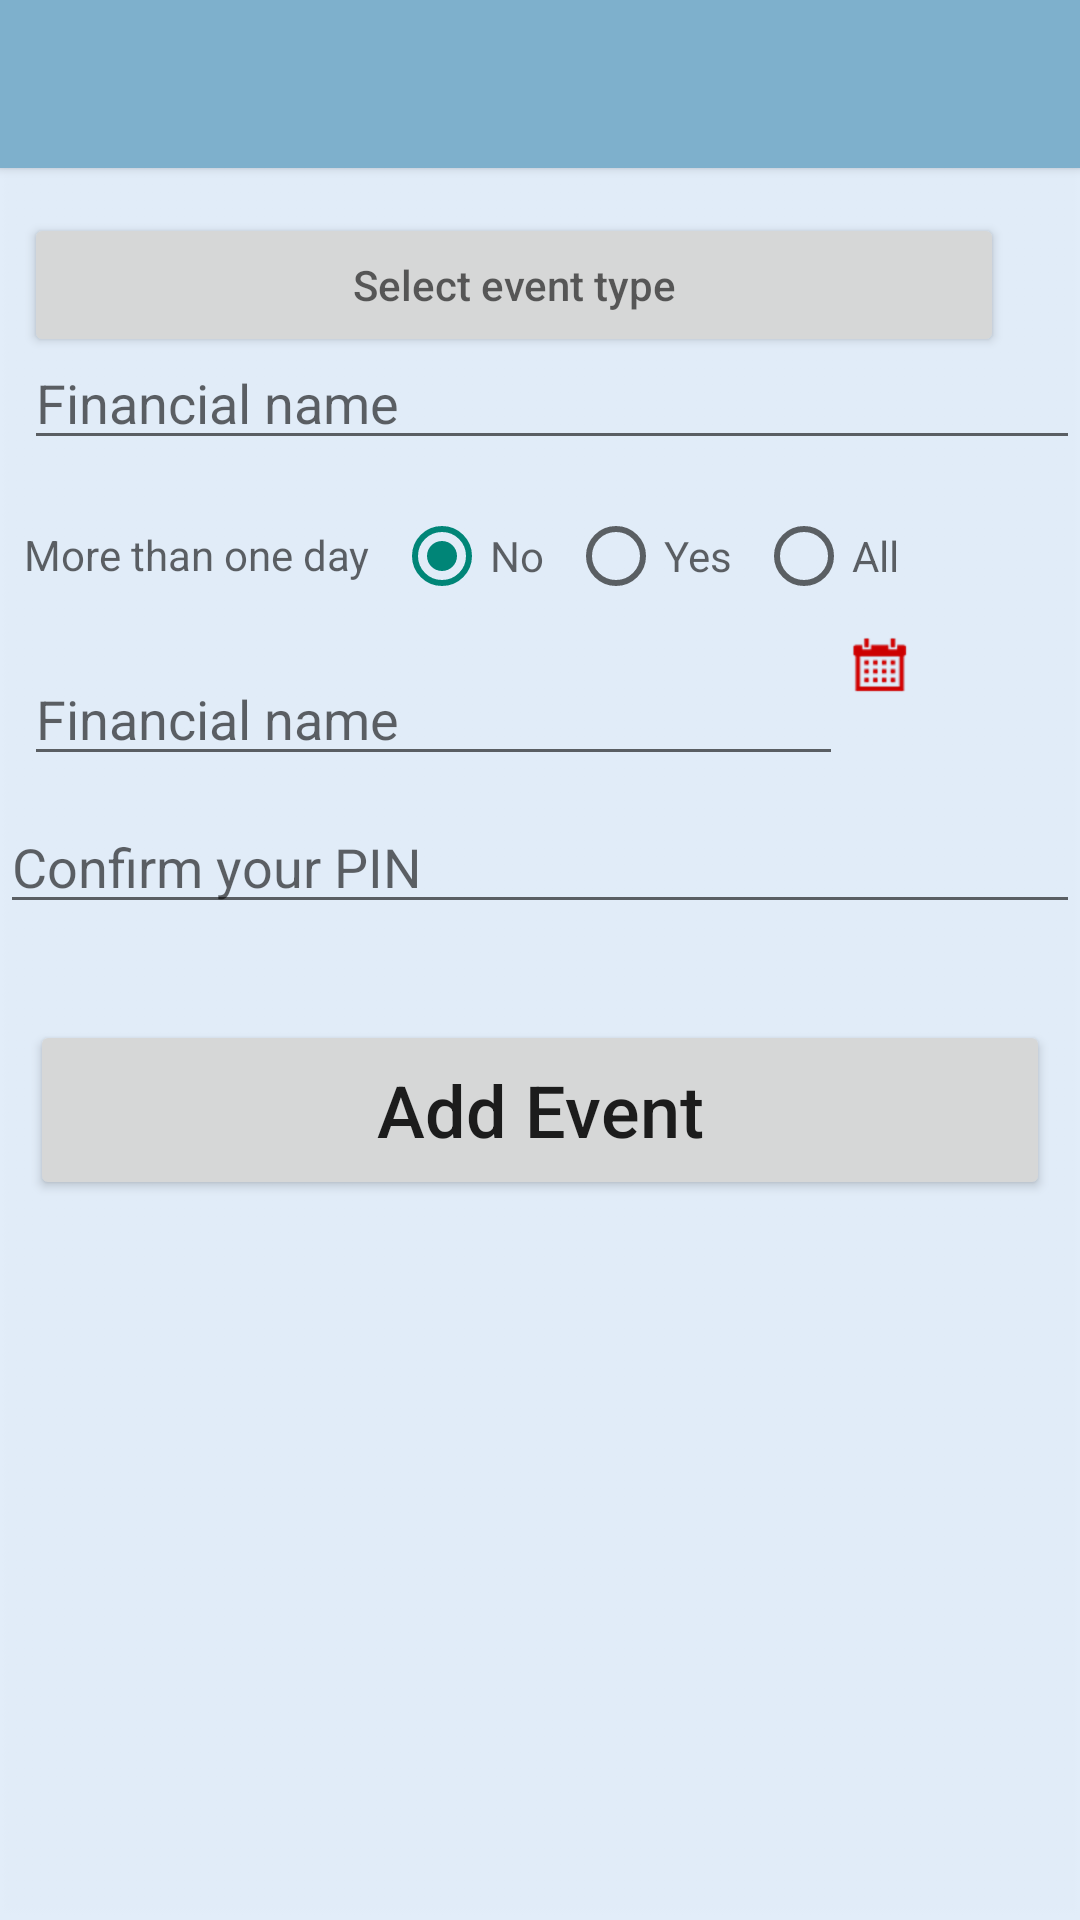

Icons on this 1080*1920 Android screen, each with its box as [x1,y1,x2,y2]:
events: [853,638,907,692]
